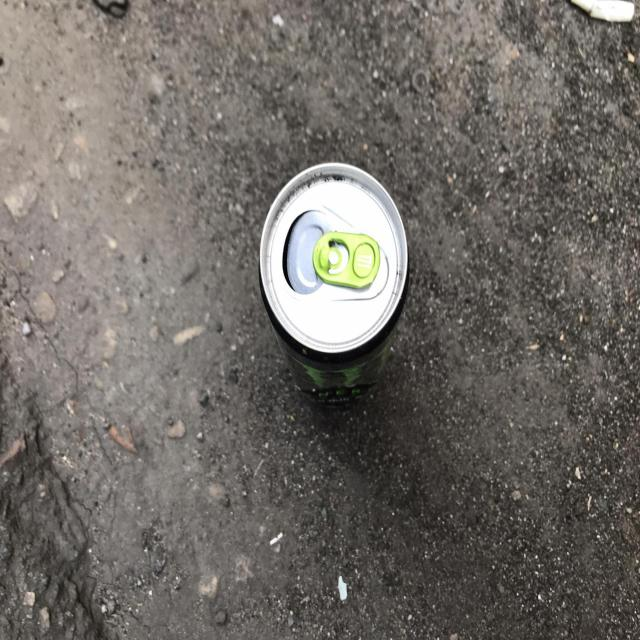can: (259, 162, 409, 404)
